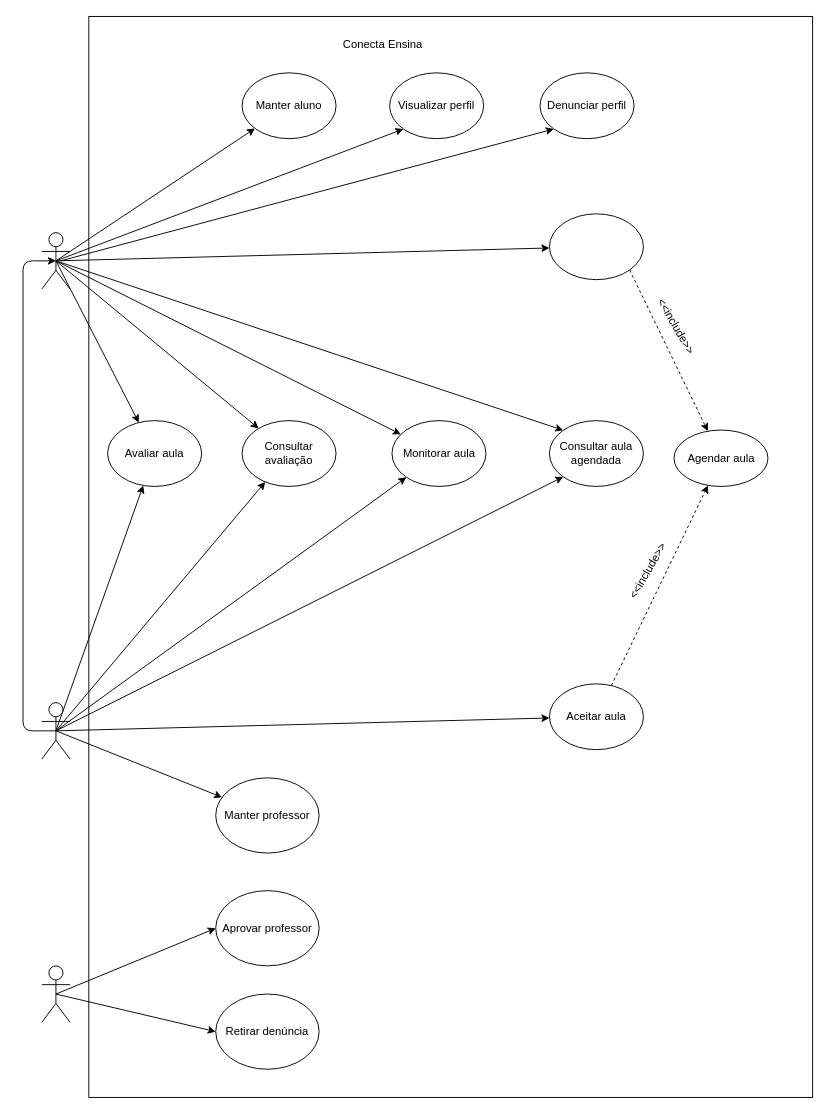
This 829x1114 diagram has some shape labels left out. The shapes that lost their labels are listed below. From the top down, each one's box as (x1, y1, x2, y2) in pixels, then its label:
(41, 232, 70, 289): Aluno
(548, 213, 643, 280): Solicitar aula
(41, 702, 70, 759): Professor
(41, 965, 70, 1022): Administrador
